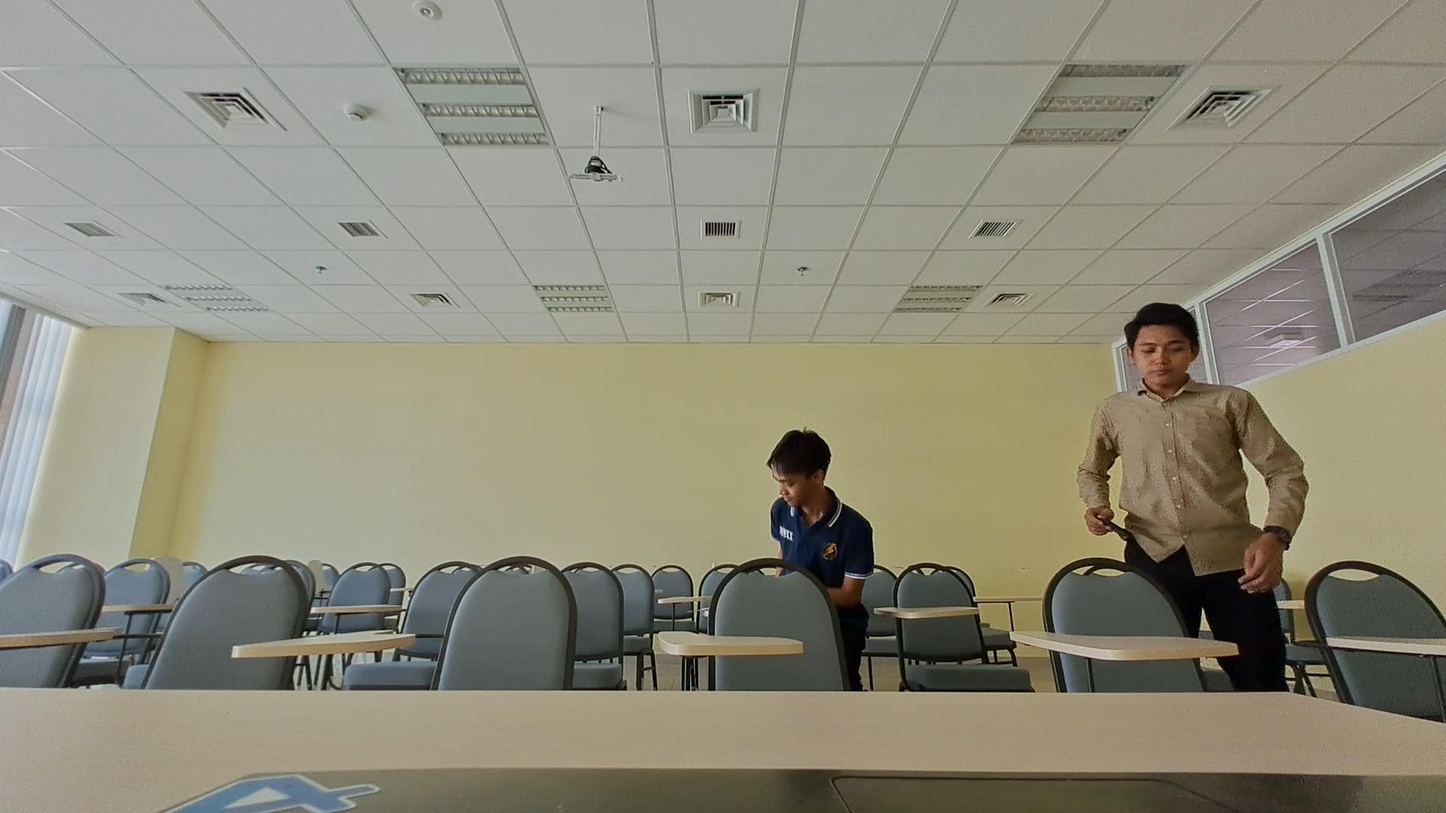study: (729, 423, 879, 629)
